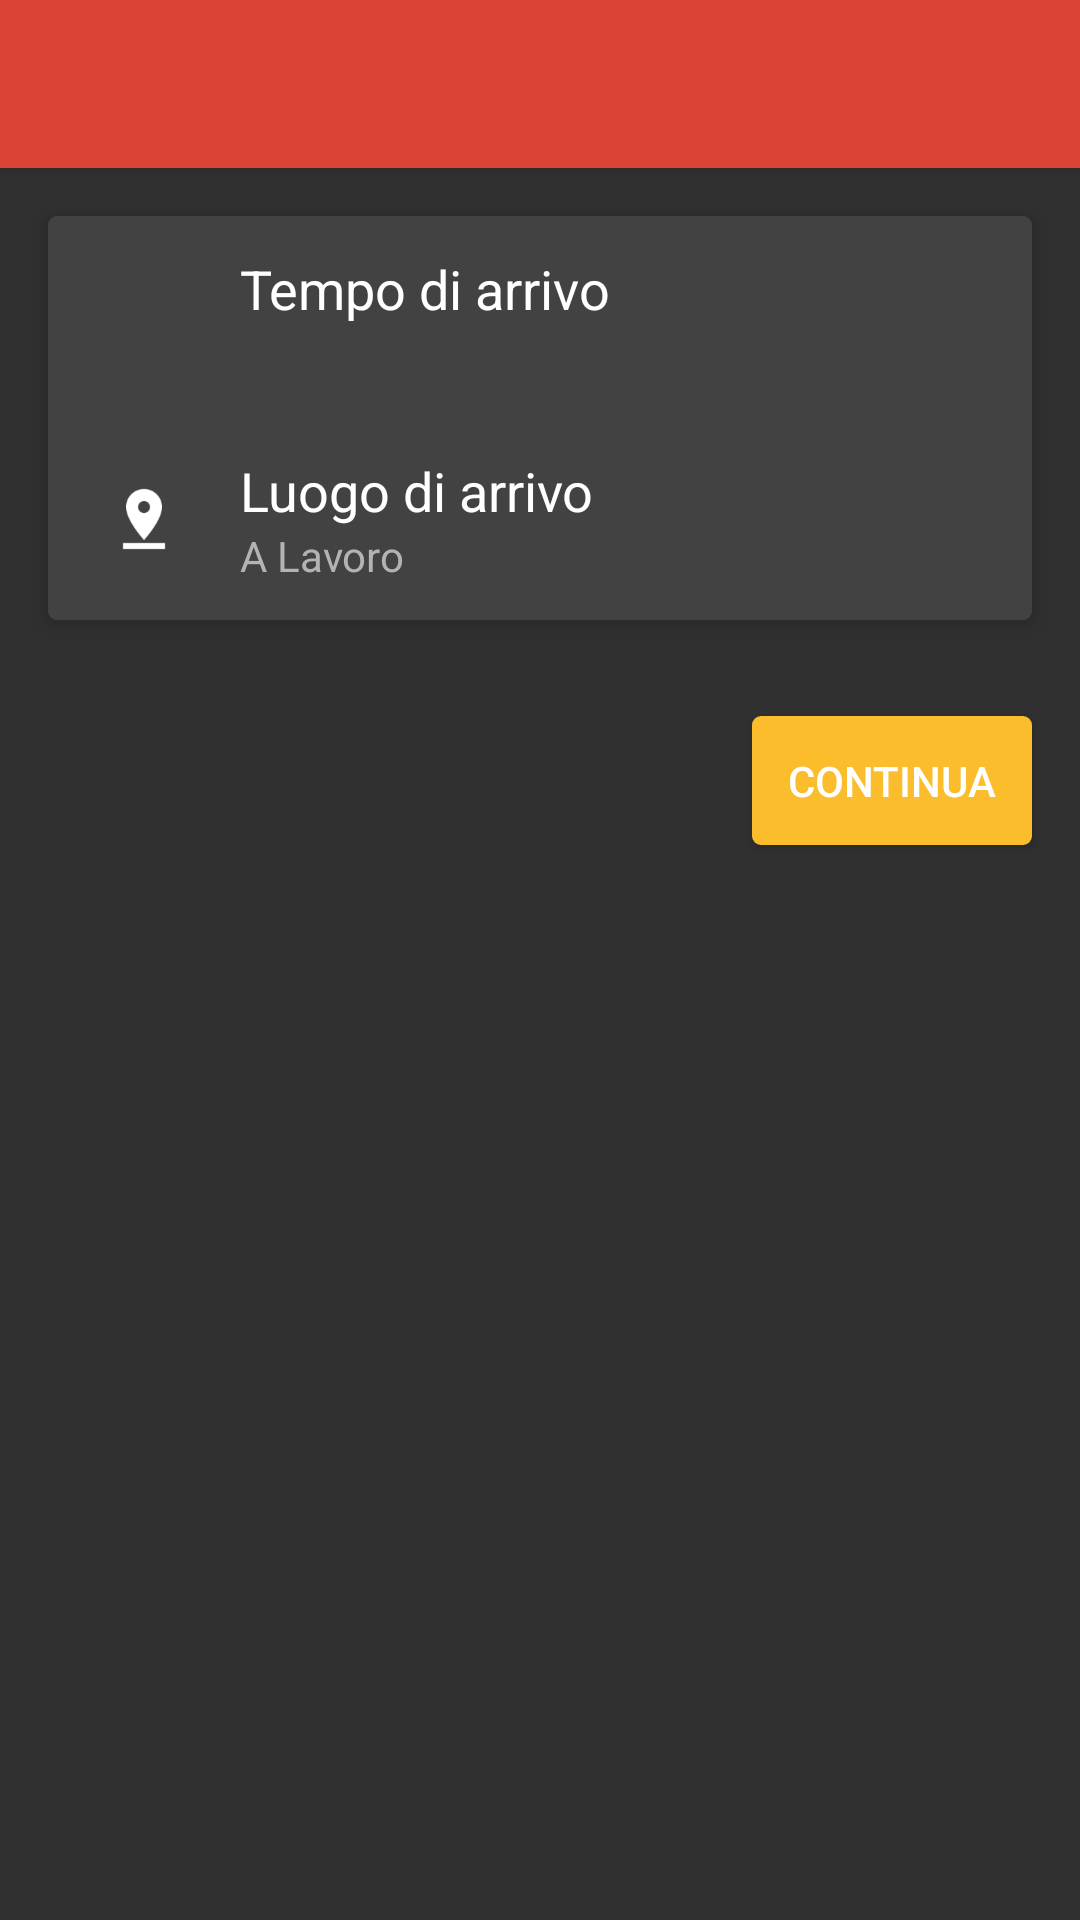

Icon bounding boxes for this 1080×1920 phone screenshot, format bbox=[x1, y1, x2, y2]:
maps pin drop: bbox=[123, 489, 165, 549]
